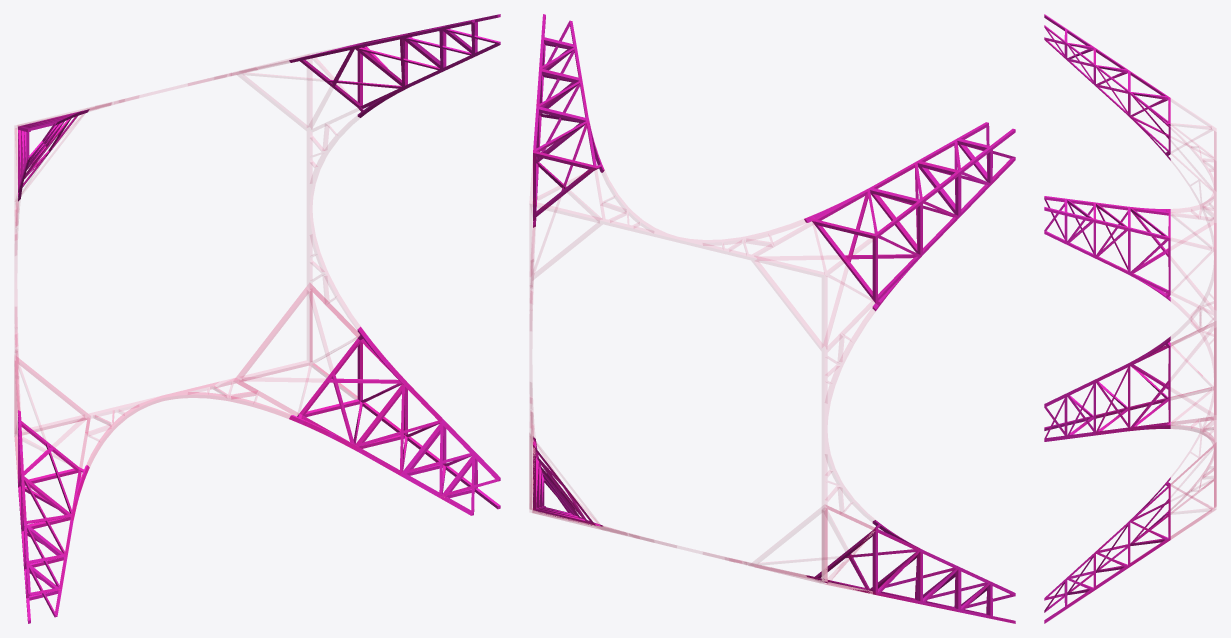
The model's file is tower1.glb.
3 views of the same model, side by side, from view 1: azimuth 30°, elevation 25°; view 2: azimuth 150°, elevation 25°; view 3: azimuth 270°, elevation 25° (orthographic). The views are drawn at different scales.
Parts seen in each view (by area): view 1: H2a, H3, H1c, H2; view 2: H2a, H1c, H2, H3; view 3: H2a, H1c, H3, H2.
Part boxes in pixels (box(x1,y1,x2,y2)): H2a: box(18, 25, 499, 611); H3: box(14, 54, 468, 588); H1c: box(24, 14, 500, 623); H2: box(21, 14, 500, 605); H2a: box(533, 48, 1014, 622); H1c: box(539, 14, 1015, 623); H2: box(536, 14, 1015, 620); H3: box(529, 156, 1004, 620); H2a: box(1044, 29, 1170, 621); H1c: box(1044, 14, 1095, 623); H3: box(1068, 97, 1216, 604); H2: box(1044, 15, 1130, 622).
Bounding box in the file's own units: 2400 × 2400 × 900.
